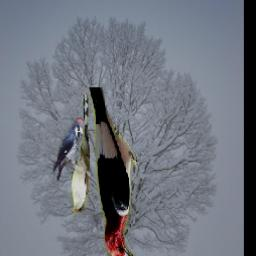Cuckoo: (72, 92, 91, 214)
Woodpecker: (87, 88, 137, 256), (52, 118, 83, 181)
